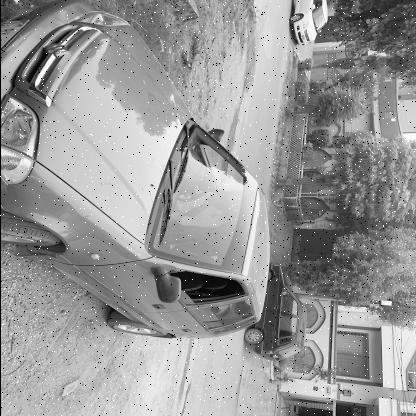no_seatbelt: (181, 189, 240, 215)
